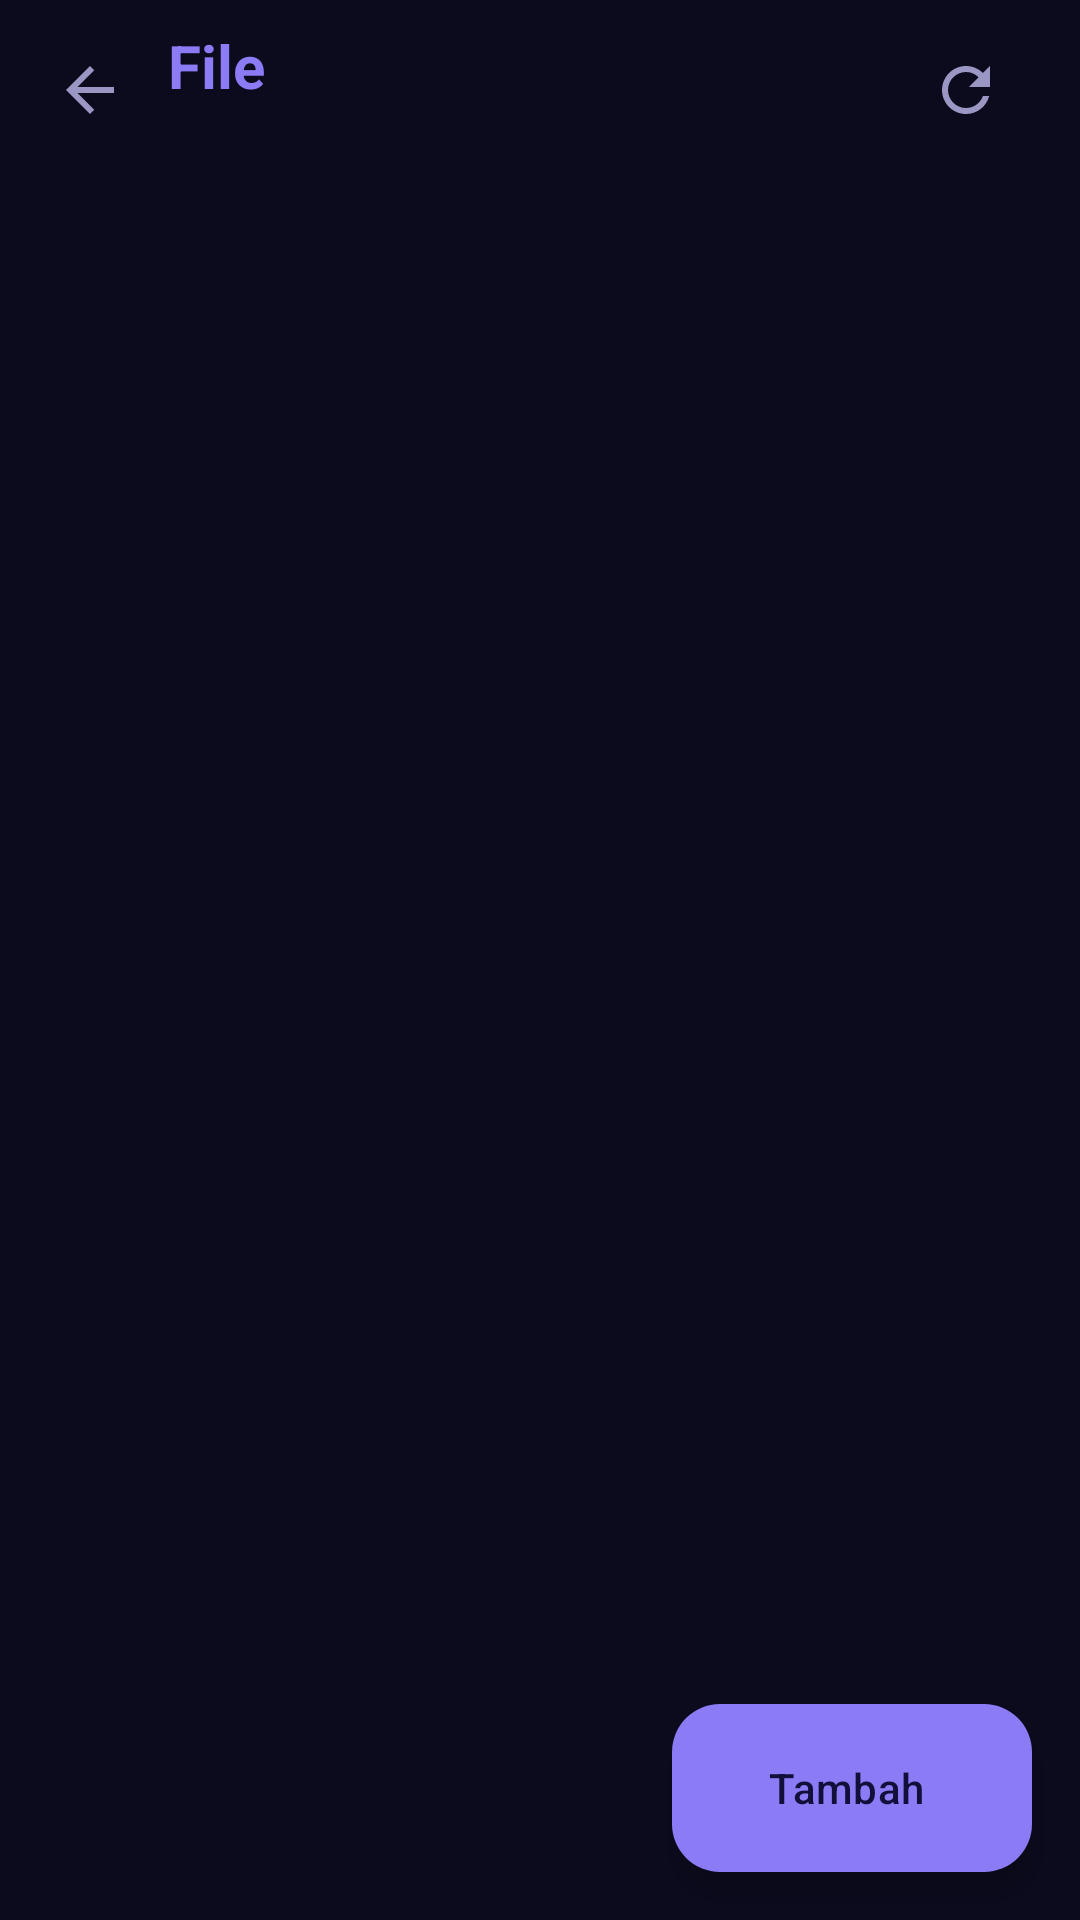

Locate icon controls on the screen. Image size 1080px x 1920px, boxes as [x1, y1, x2, y2].
Kembali: [66, 66, 114, 114]
Refresh: [942, 66, 990, 114]
